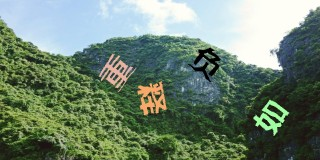如: (252, 98, 289, 136)
负: (188, 47, 221, 84)
释: (134, 81, 167, 117)
重: (97, 53, 137, 91)
